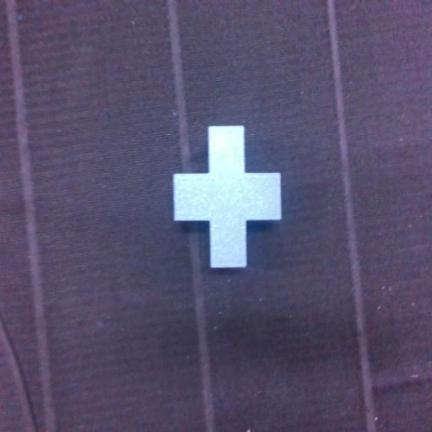cross: (174, 126, 280, 267)
